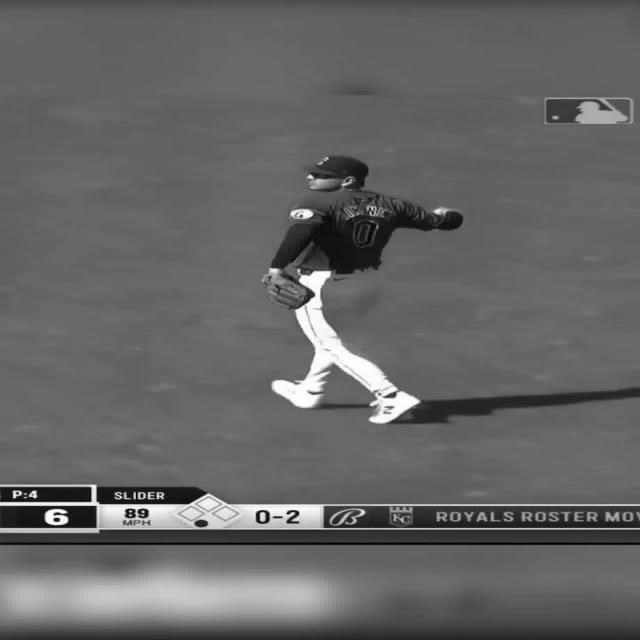baseball_glove: (261, 272, 315, 310)
shoe: (367, 390, 421, 424), (270, 379, 324, 409)
